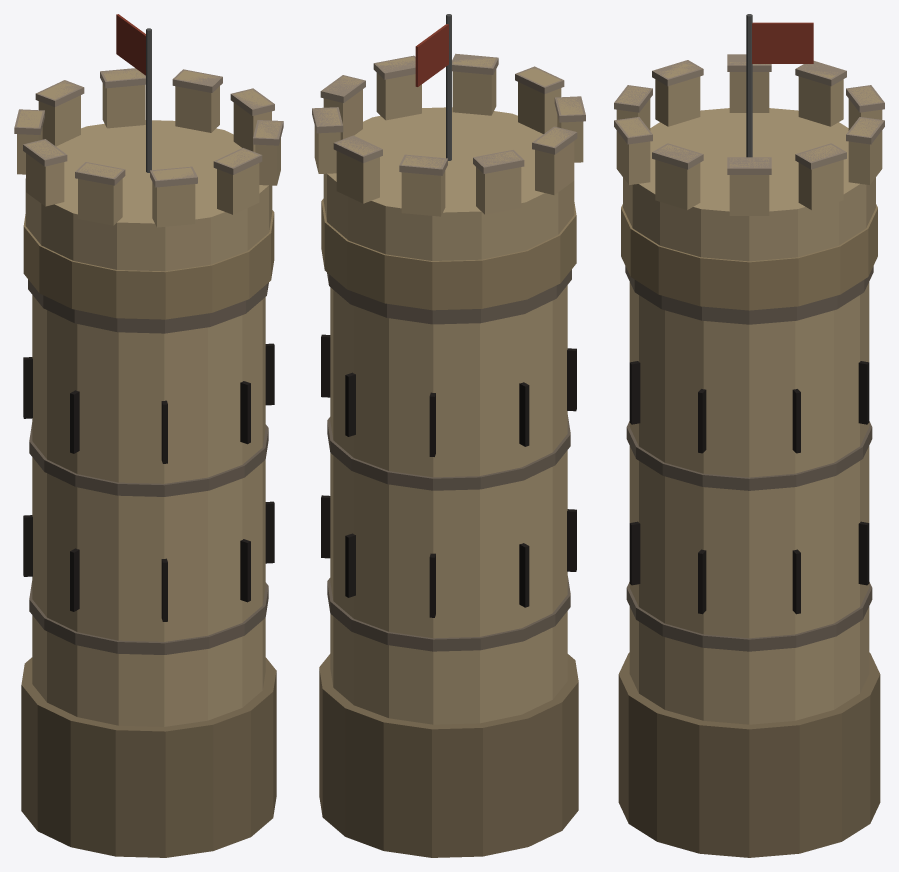
Rendered from fort_masonry_tower.glb.
3 renders of one model, left to right at view 1: azimuth 30°, elevation 25°; view 2: azimuth 150°, elevation 25°; view 3: azimuth 270°, elevation 25°, orthographic.
Parts seen in each view (by area): view 1: fort_masonry_tower; view 2: fort_masonry_tower; view 3: fort_masonry_tower.
Part boxes in pixels (box(x1,y1,x2,y2)): fort_masonry_tower: box(14, 14, 283, 857); fort_masonry_tower: box(312, 14, 585, 857); fort_masonry_tower: box(614, 14, 884, 857).
Bounding box in the file's own units: 6.1 × 19.6 × 6.11.
